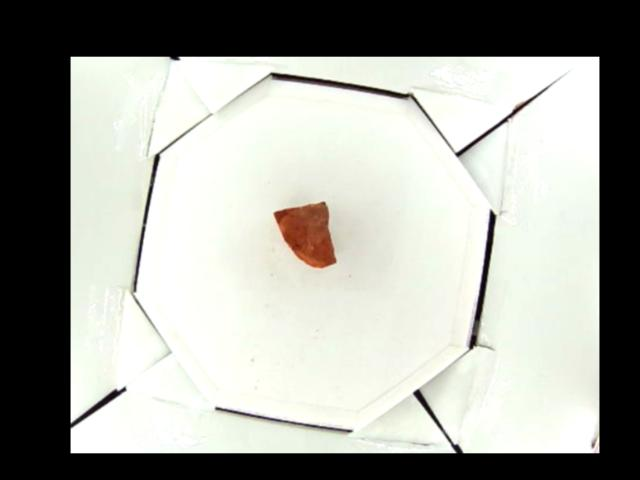Brisk: (271, 200, 336, 267)
